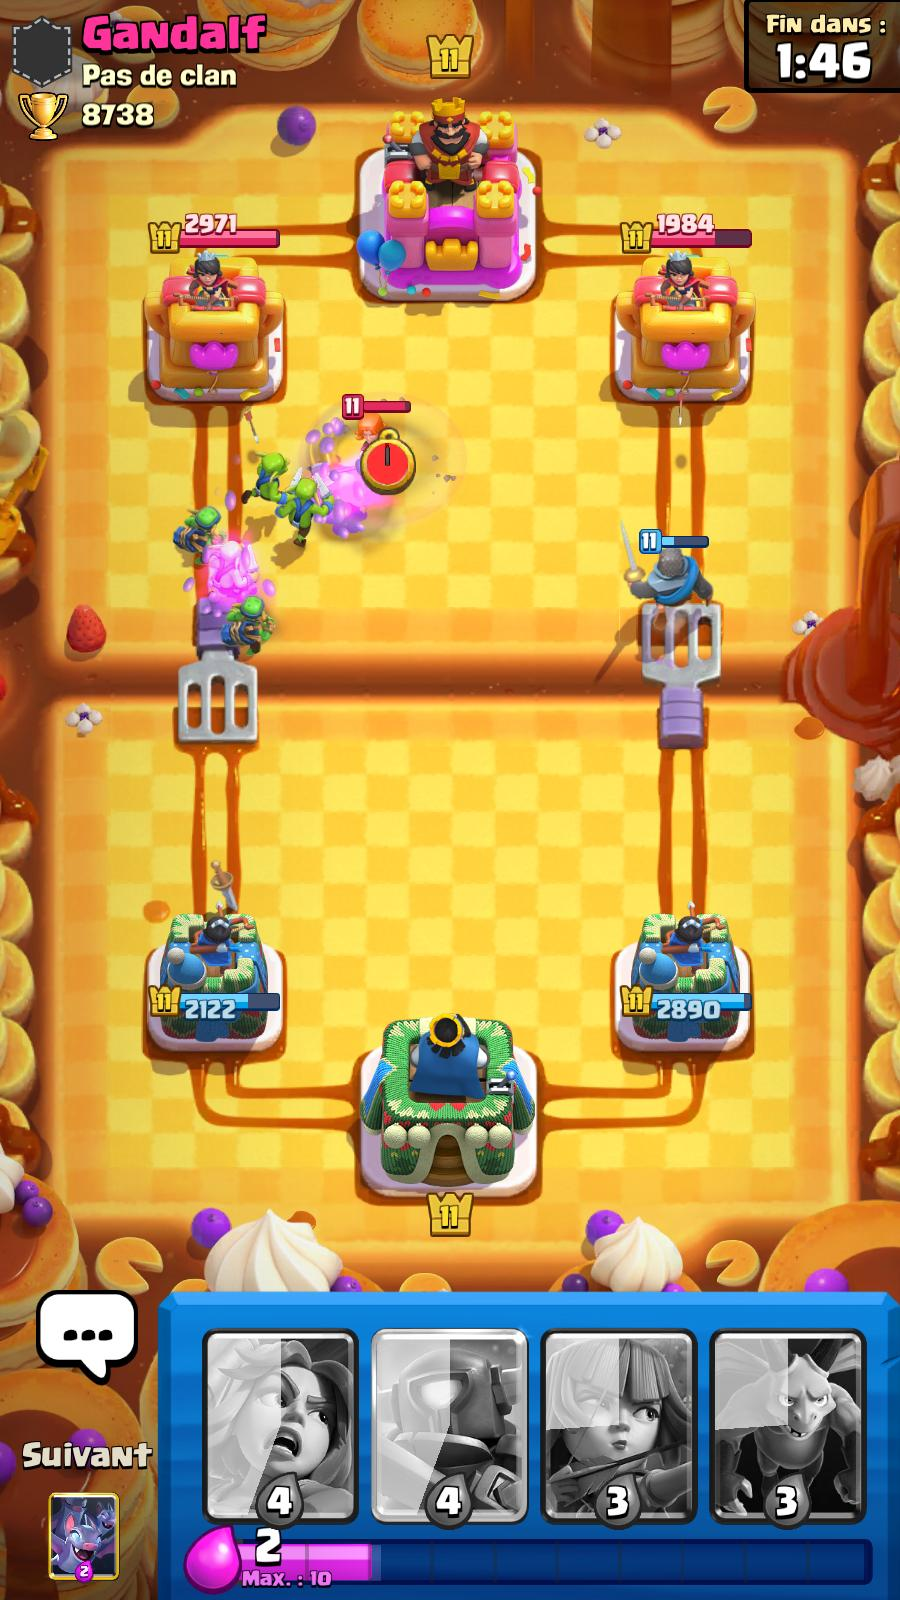chevalier: (611, 513, 719, 624)
gobelin: (198, 536, 262, 596), (241, 446, 304, 505), (292, 470, 330, 560)
gobelin_lances: (173, 490, 244, 566), (216, 586, 284, 666)
valkyrie: (335, 393, 423, 492)
